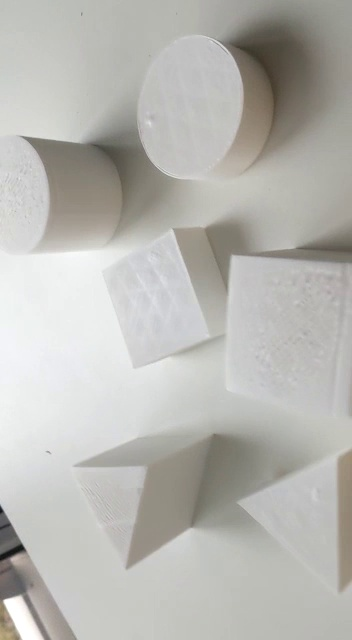Clyinder_short: (130, 29, 284, 186)
Cube: (218, 240, 352, 435)
Cube_short: (98, 225, 244, 373)
Cylinder: (1, 131, 126, 257)
Triangle: (71, 430, 217, 574)
Triangle_short: (232, 447, 352, 599)
